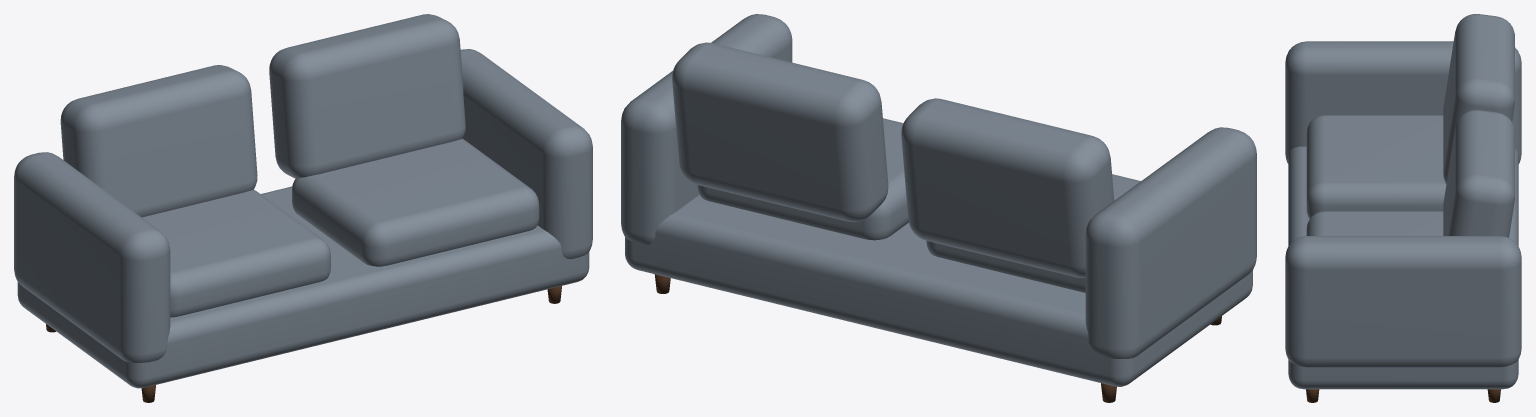
File: sofa.glb
3 views of the same model, side by side, from view 1: azimuth 30°, elevation 25°; view 2: azimuth 150°, elevation 25°; view 3: azimuth 270°, elevation 25° (orthographic). The views are drawn at different scales.
Visible parts, largest first — view 1: Cube; view 2: Cube, Cone; view 3: Cube, Cone.
Part boxes in pixels (box(x1,y1,x2,y2)): Cube: box(14, 14, 592, 388); Cube: box(621, 14, 1256, 386); Cone: box(654, 274, 1221, 402); Cube: box(1285, 14, 1521, 389); Cone: box(1306, 389, 1500, 402).
Bounding box in the file's own units: 1.69 × 0.7723 × 0.78.
